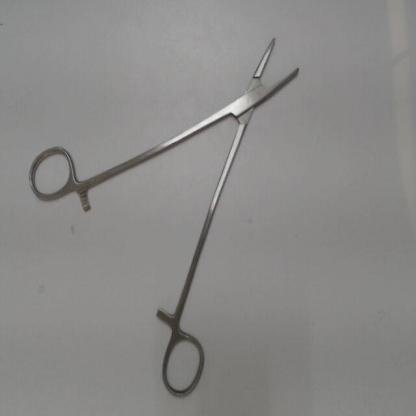8 Mayo Needle Holder: (18, 25, 318, 406)
